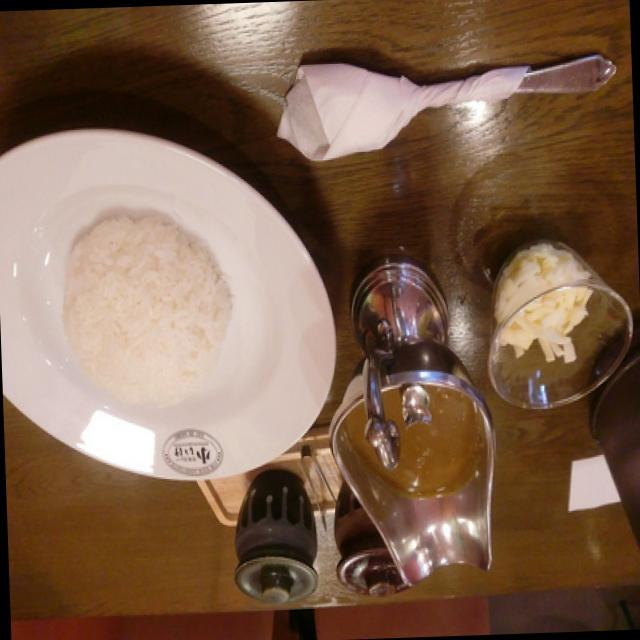Rice: (63, 210, 214, 416)
